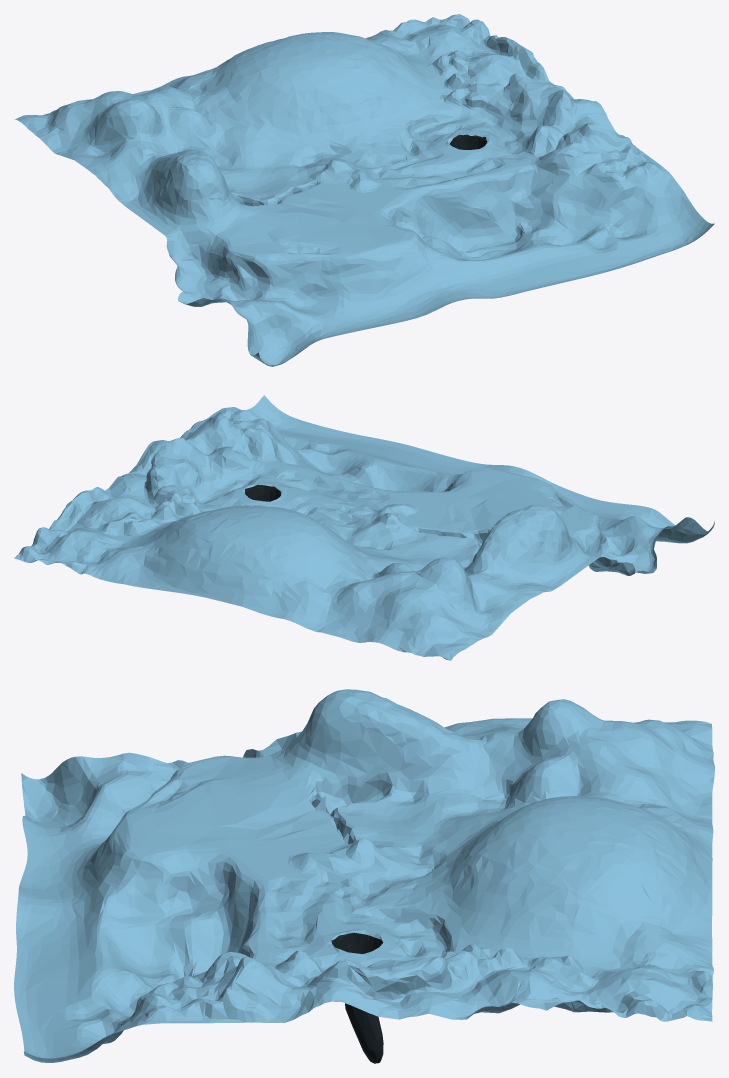
Rendered from Level 1.fbx.
3 views of the same model, one above another, from view 1: azimuth 30°, elevation 25°; view 2: azimuth 150°, elevation 25°; view 3: azimuth 270°, elevation 25° (orthographic). The views are drawn at different scales.
Parts seen in each view (by area): view 1: pPlane1; view 2: pPlane1; view 3: pPlane1.
Boxes of the visible parts, <box> form: pPlane1: <box>14,14,714,366</box>; pPlane1: <box>14,395,714,660</box>; pPlane1: <box>14,689,714,1063</box>.
Size of the model in its own units: 24289 by 6861 by 23318.
